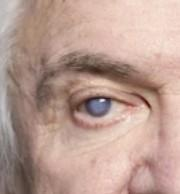eye: (85, 97, 112, 117)
